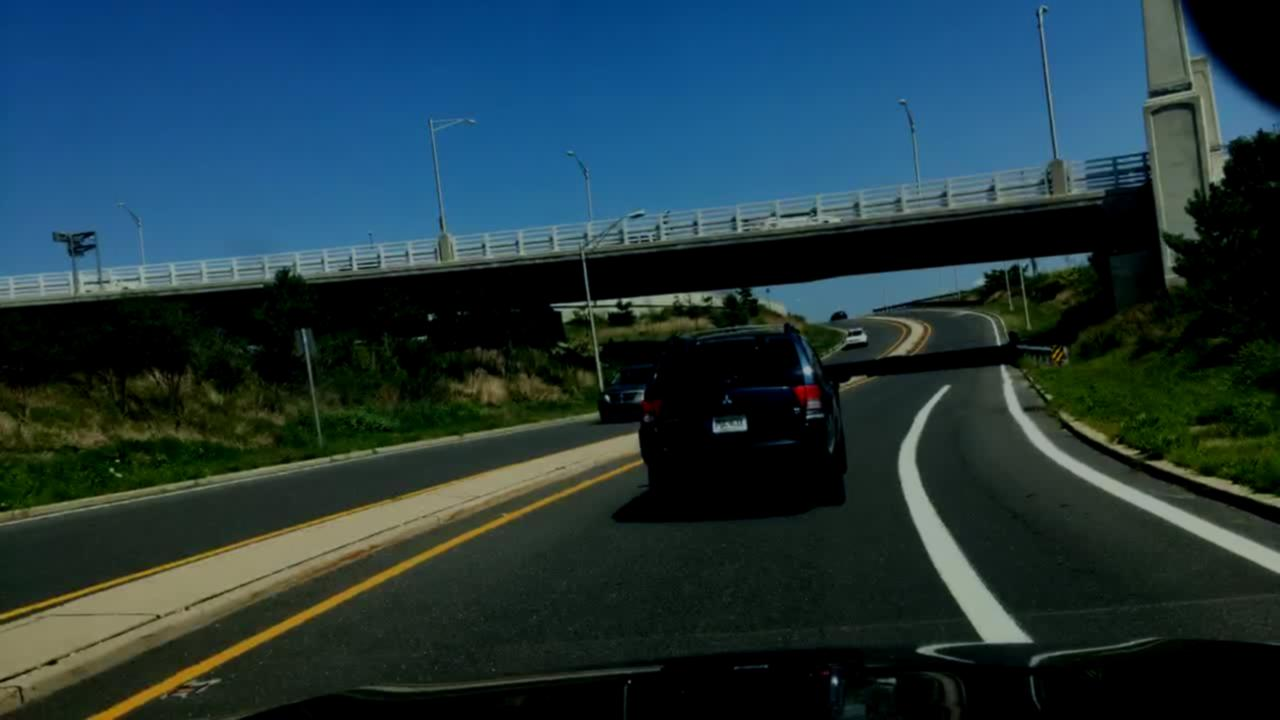Mitsubishi: (714, 387, 742, 412)
